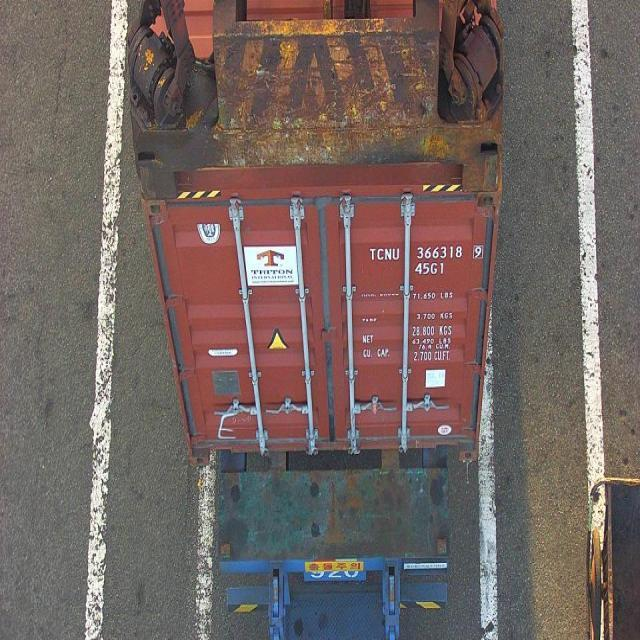ISO: (416, 261, 445, 275)
container_number: (366, 240, 484, 264)
